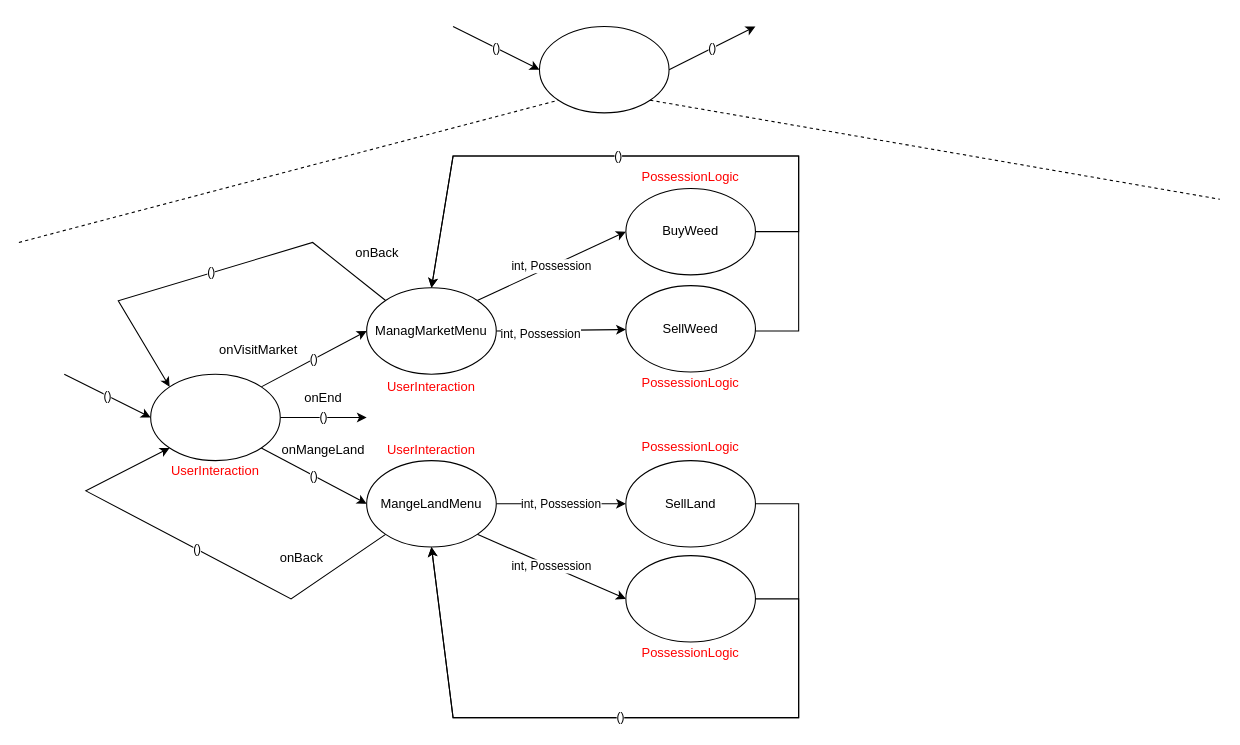
Some shapes in this 1240 by 745 pixel diagram are drawn without their labels. The box of each missing label's shape, as (x1, y1, x2, y2) in pixels:
BuyLand: (625, 555, 755, 642)
MainMenu: (150, 373, 280, 461)
Run: (538, 25, 669, 113)
